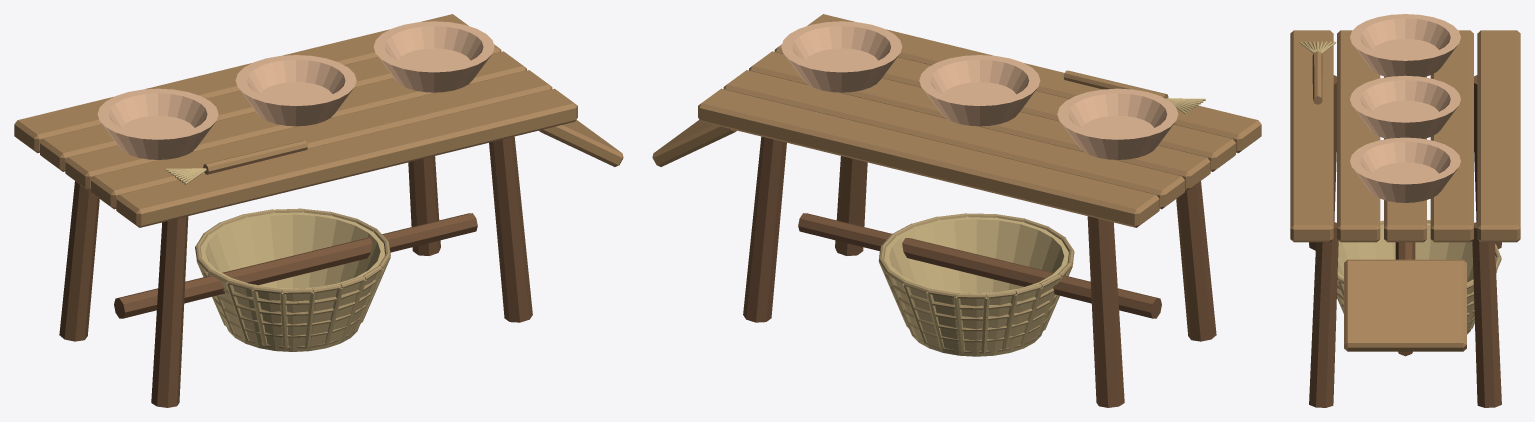
3 renders of one model, left to right at view 1: azimuth 30°, elevation 25°; view 2: azimuth 150°, elevation 25°; view 3: azimuth 270°, elevation 25°, orthographic. The views are drawn at different scales.
Parts seen in each view (by area): view 1: GF-030 Three basin harvest sorting station batched; view 2: GF-030 Three basin harvest sorting station batched; view 3: GF-030 Three basin harvest sorting station batched.
Boxes of the visible parts, box(x1,y1,x2,y2) form: GF-030 Three basin harvest sorting station batched: box(14, 14, 623, 407); GF-030 Three basin harvest sorting station batched: box(652, 14, 1261, 407); GF-030 Three basin harvest sorting station batched: box(1290, 14, 1520, 407).
Bounding box in the file's own units: 1.87 × 0.8539 × 0.788.
